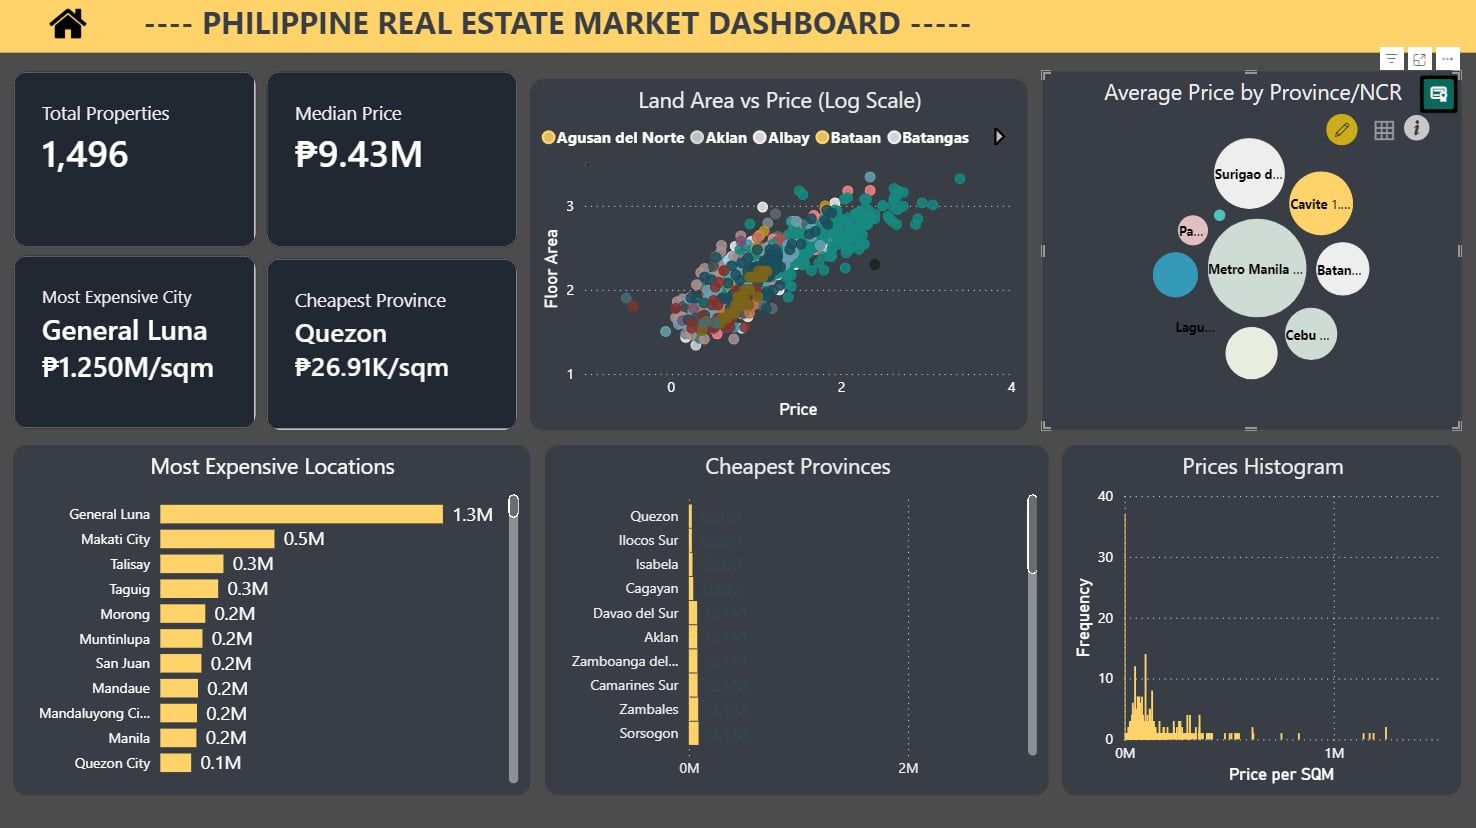

The dashboard page shown, as its layout file describes it:
{"tool":"powerbi","page":{"name":"Patient Flow overview page","canvas":[1280,720],"ordinal":0},"visuals":[{"type":"shape","box":[0,0,1280,48],"z":0},{"type":"image","box":[7,7,112,32],"z":1000},{"type":"clusteredBarChart","title":"Cheapest Provinces","fields":{"Category":["City Province Avg Price per SQM.Province/NCR"],"Y":["Sum(City Province Avg Price per SQM.Average Price per SQM)"]},"box":[474.3,386.1,434.4,301.7],"z":2000},{"type":"clusteredColumnChart","title":"Prices Histogram","fields":{"Category":["Data_Cleaned.Price per SQM"],"Y":["CountNonNull(Data_Cleaned.Price per SQM (bins))"]},"box":[919.9,386.1,344.4,301.7],"z":3000},{"type":"packedBubble563FBEFA65CC43A48496B6BB533D9890","title":"Average Price by Province/NCR","fields":{"category":["City Province Avg Price per SQM.Province/NCR"],"measure":["Sum(City Province Avg Price per SQM.Average Price per SQM)"]},"box":[902.2,64,362,309.1],"z":4000},{"type":"barChart","title":"Most Expensive Locations","fields":{"Category":["City Province Avg Price per SQM.Municipality/City"],"Y":["Sum(City Province Avg Price per SQM.Average Price per SQM)"]},"box":[15.8,386.1,445.5,301.7],"z":5000},{"type":"scatterChart","title":"Land Area vs Price (Log Scale)","fields":{"Y":["Sum(Data_Cleaned.Log Price (Base 10))"],"X":["Data_Cleaned.Log Price"],"Series":["Data_Cleaned.Province/NCR"]},"box":[461.3,70.5,428.8,302.6],"z":6000},{"type":"cardVisual","fields":{"Data":["City Province Avg Price per SQM.Median Price Overall"]},"box":[15.8,64,209.8,152.2],"z":7000},{"type":"cardVisual","fields":{"Data":["City Province Avg Price per SQM.Median Price"]},"box":[233.9,64,217.2,152.2],"z":8000},{"type":"cardVisual","fields":{"Data":["City Province Avg Price per SQM.Cheapest Province with Price"]},"box":[233.9,224.6,217.2,148.5],"z":9000},{"type":"cardVisual","fields":{"Data":["City Province Avg Price per SQM.Most Expensive City with Price"]},"box":[15.8,222.8,209.8,150.4],"z":10000}]}

Visuals, with their boxes in screenshot pixels (x1, y1, x2, y2), scaled from the page's 1280x720 canvas onto the 1476x828 screenshot:
shape: l=0, t=0, r=1475, b=55
image: l=8, t=8, r=137, b=45
"Cheapest Provinces" clusteredBarChart: l=547, t=444, r=1048, b=791
"Prices Histogram" clusteredColumnChart: l=1061, t=444, r=1458, b=791
"Average Price by Province/NCR" packedBubble563FBEFA65CC43A48496B6BB533D9890: l=1040, t=74, r=1458, b=429
"Most Expensive Locations" barChart: l=18, t=444, r=532, b=791
"Land Area vs Price (Log Scale)" scatterChart: l=532, t=81, r=1026, b=429
cardVisual - City Province Avg Price per SQM.Median Price Overall: l=18, t=74, r=260, b=249
cardVisual - City Province Avg Price per SQM.Median Price: l=270, t=74, r=520, b=249
cardVisual - City Province Avg Price per SQM.Cheapest Province with Price: l=270, t=258, r=520, b=429
cardVisual - City Province Avg Price per SQM.Most Expensive City with Price: l=18, t=256, r=260, b=429
